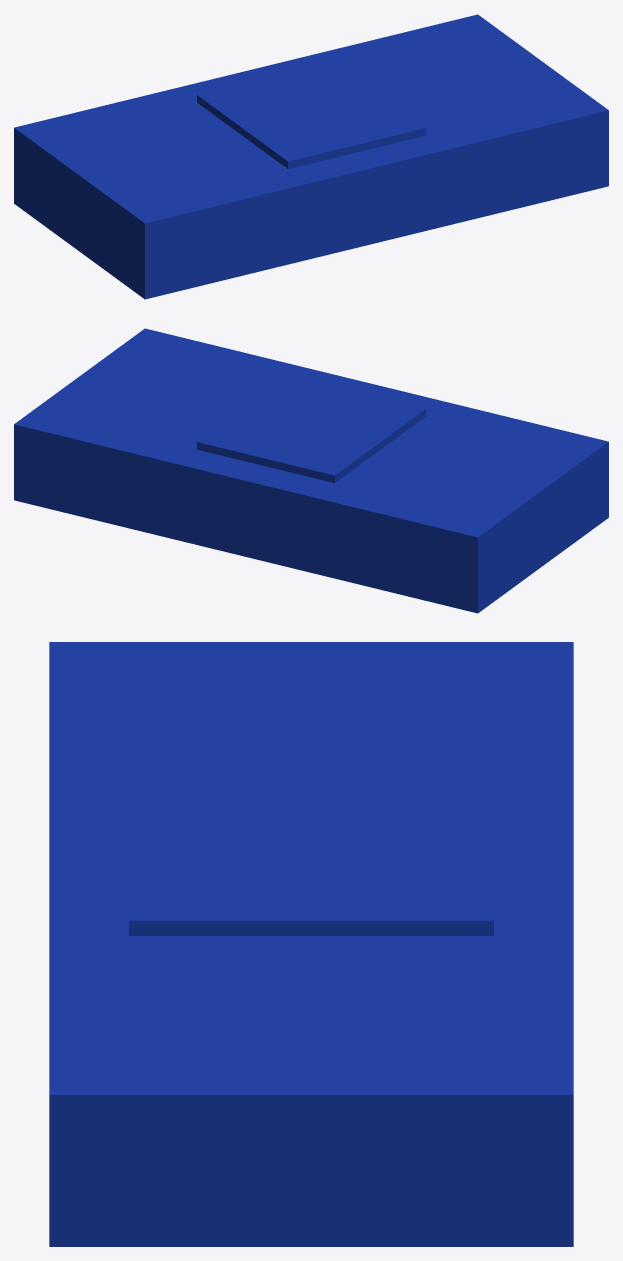
Rendered from jagu.obj.
The picture shows the model from 3 angles, top to bottom: view 1: azimuth 30°, elevation 25°; view 2: azimuth 150°, elevation 25°; view 3: azimuth 270°, elevation 25°; orthographic projection. The views are drawn at different scales.
Visible parts, largest first — view 1: jagu; view 2: jagu; view 3: jagu.
Part boxes in pixels (bbox=[...]): jagu: bbox=[14, 14, 608, 299]; jagu: bbox=[14, 328, 608, 613]; jagu: bbox=[49, 642, 573, 1246].
Size of the model in its own units: 460 by 79.2 by 225.
